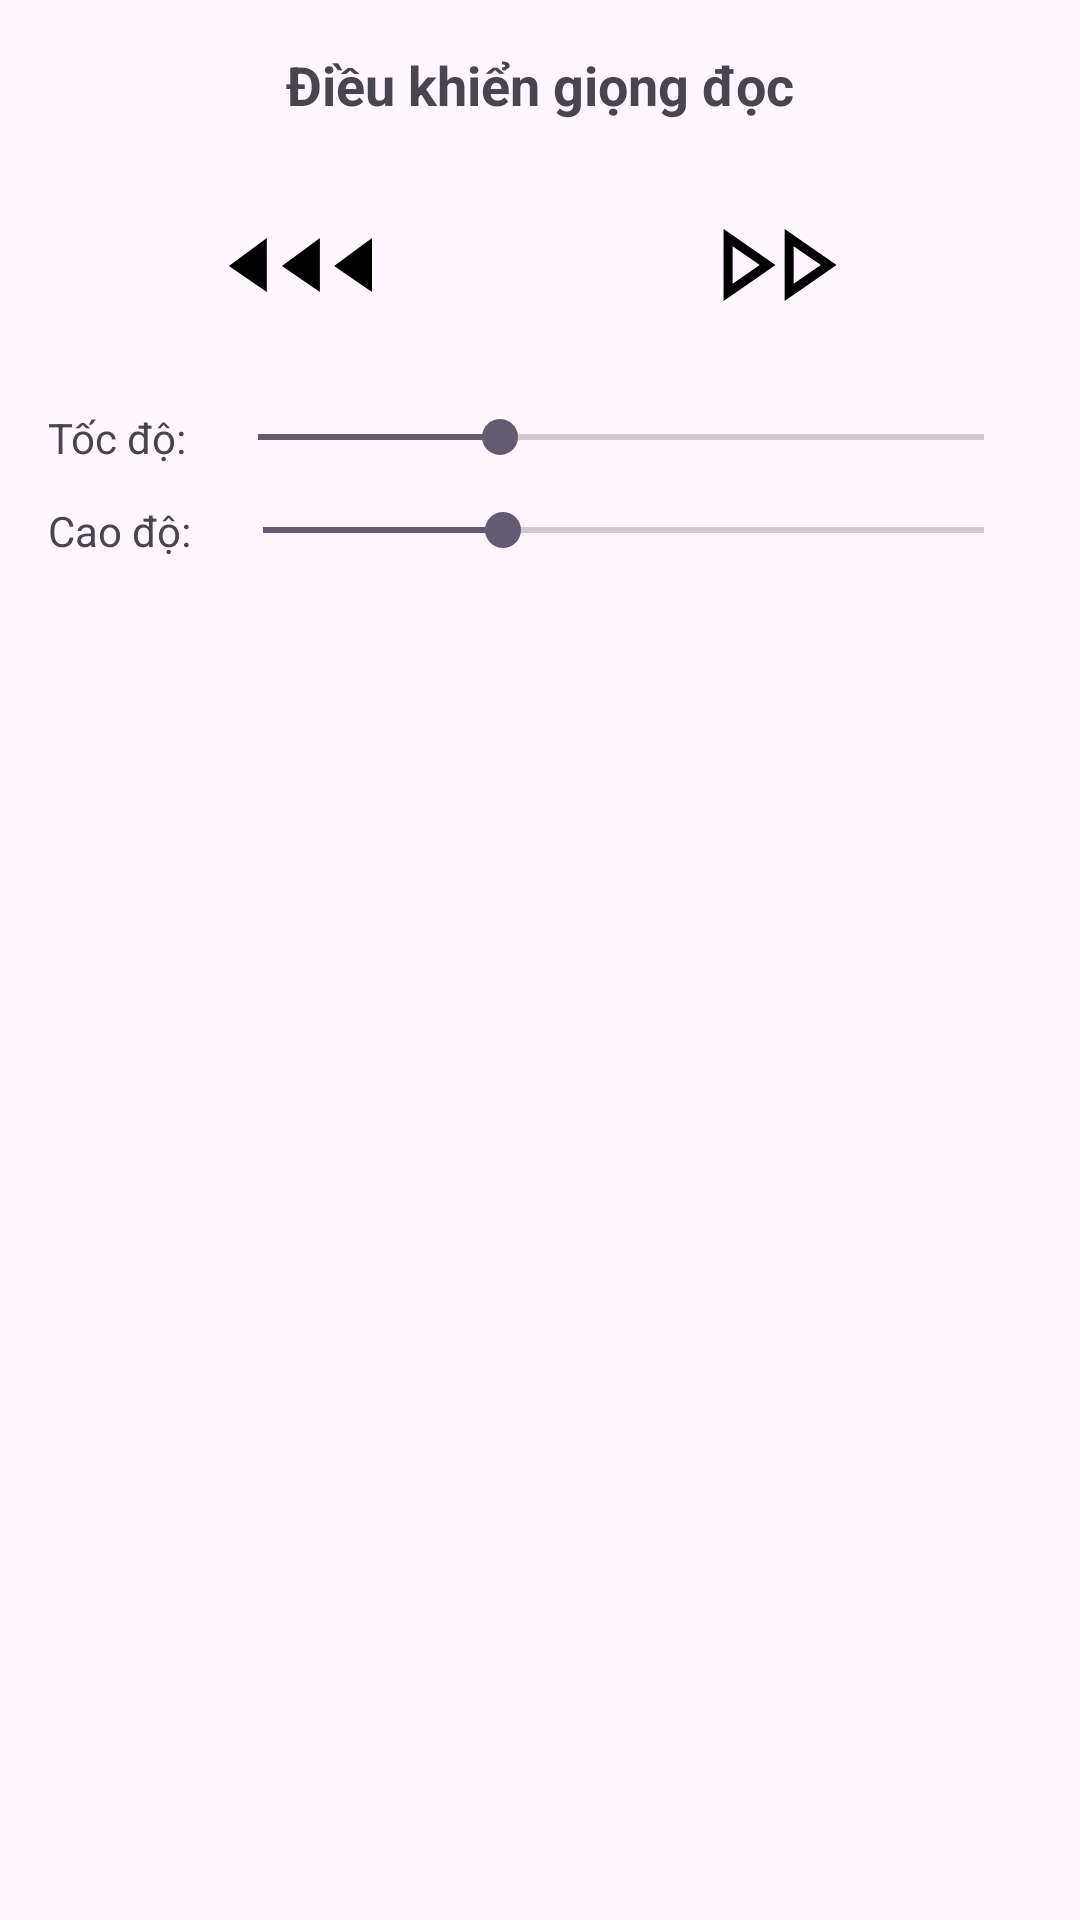

Named icons in this screenshot (1080×1920) and their centers, point (x, y):
Fast Forward: point (779, 265)
Rewind: point (300, 265)
